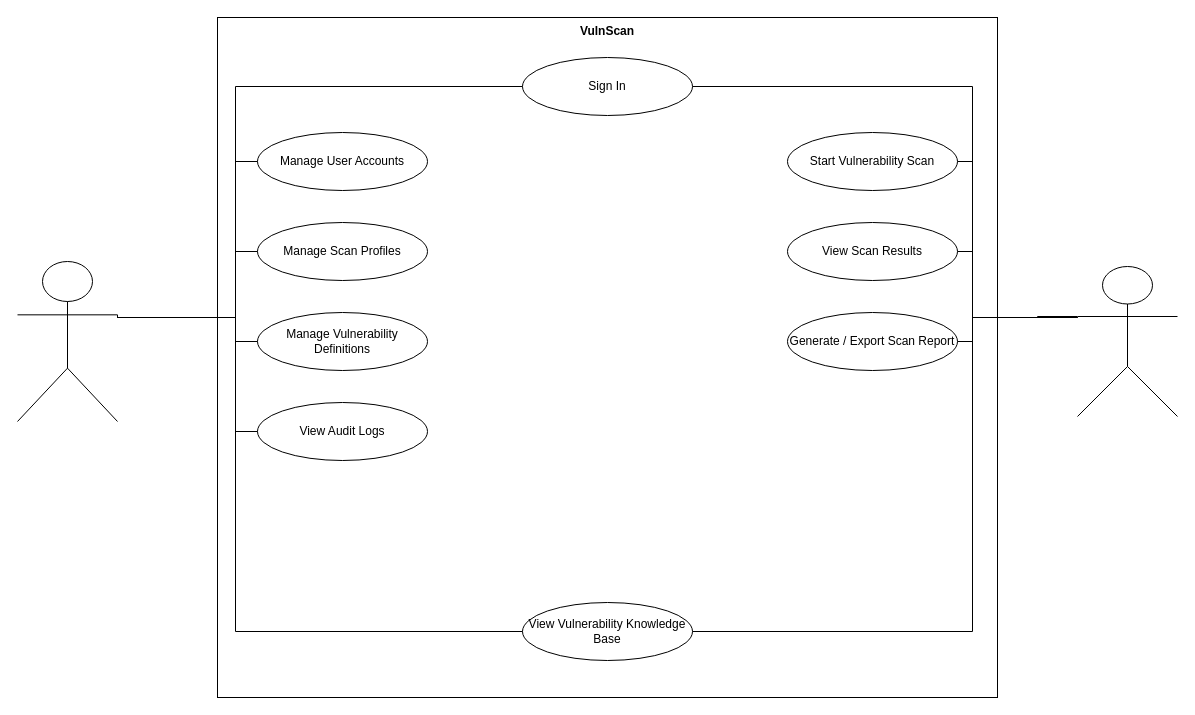
Some shapes in this 1195 by 715 pixel diagram are drawn without their labels. The shapes that lost their labels are listed below. From the top down, each one's centre as x and y in pixels, then its label:
At point 67,341: "Administrator".
At point 1127,341: "Developer".
